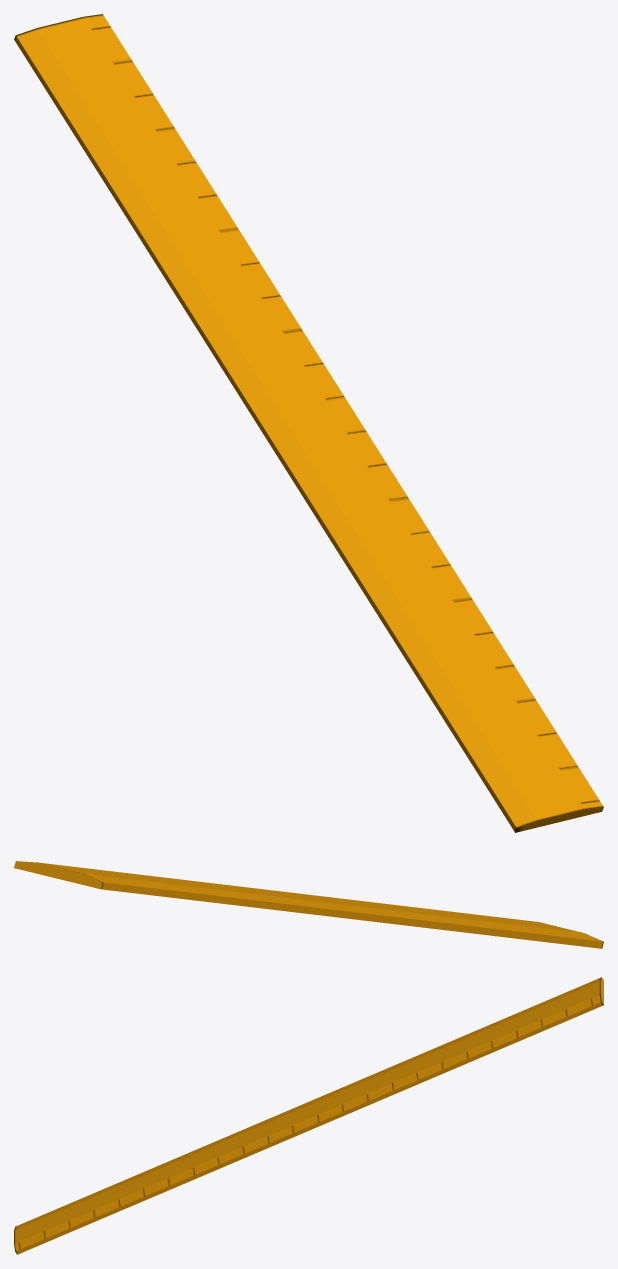
File: sliding scale.glb
3 views of the same model, one above another, from view 1: azimuth 30°, elevation 25°; view 2: azimuth 150°, elevation 25°; view 3: azimuth 270°, elevation 25° (orthographic). The views are drawn at different scales.
Parts seen in each view (by area): view 1: Cube.051; view 2: Cube.051; view 3: Cube.051.
Boxes of the visible parts, x1,y1,x2,y2 form: Cube.051: (14, 14, 603, 832); Cube.051: (14, 861, 603, 948); Cube.051: (14, 977, 603, 1254).
Bounding box in the file's own units: 2 × 9.57 × 20.08.
Materials: 1 (1 with a texture image).
